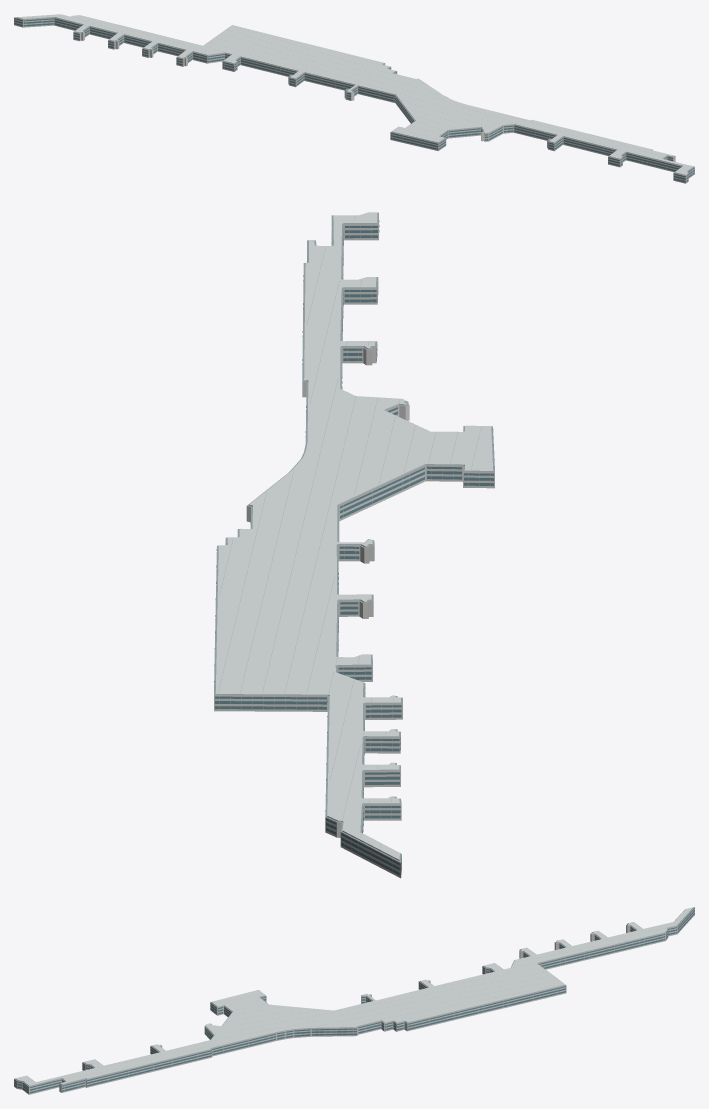
3 views of the same model, one above another, from view 1: azimuth 30°, elevation 25°; view 2: azimuth 150°, elevation 25°; view 3: azimuth 270°, elevation 25° (orthographic). The views are drawn at different scales.
Visible parts, largest first — view 1: fukuoka-airport; view 2: fukuoka-airport; view 3: fukuoka-airport.
Boxes of the visible parts, x1=… form: fukuoka-airport: x1=14, y1=14, x2=694, y2=183; fukuoka-airport: x1=214, y1=212, x2=494, y2=878; fukuoka-airport: x1=14, y1=907, x2=694, y2=1094.
Bounding box in the file's own units: 450 × 9.94 × 720.
